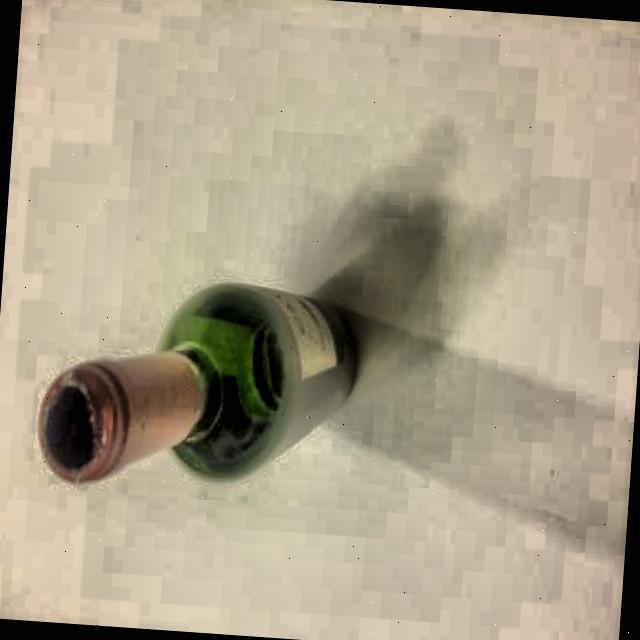glass: (27, 262, 365, 506)
